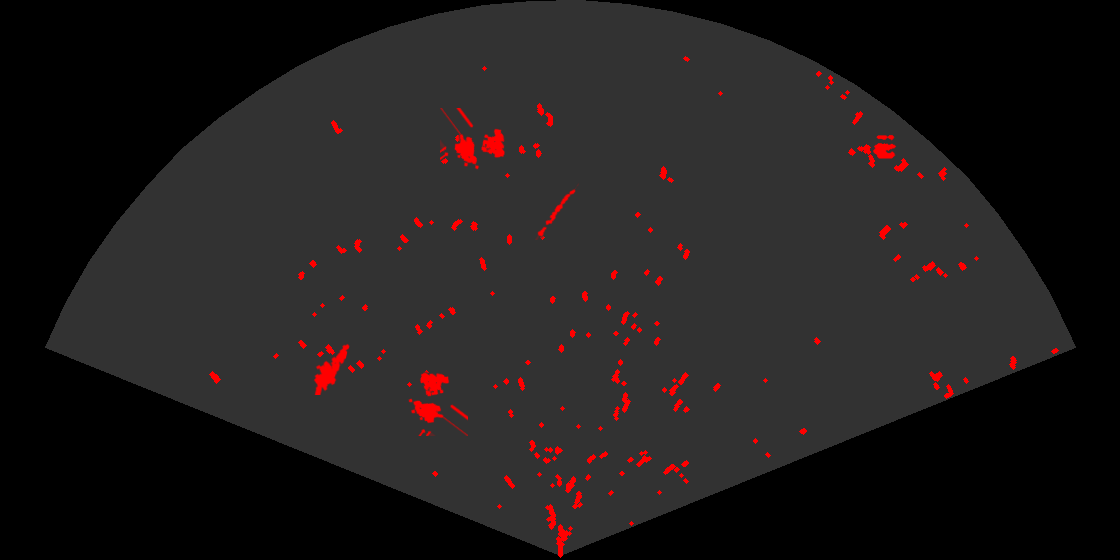ball: (872, 133, 898, 160)
cage: (440, 108, 507, 171), (407, 371, 468, 436)
chain: (534, 182, 579, 240)
frogman: (312, 342, 351, 395)
